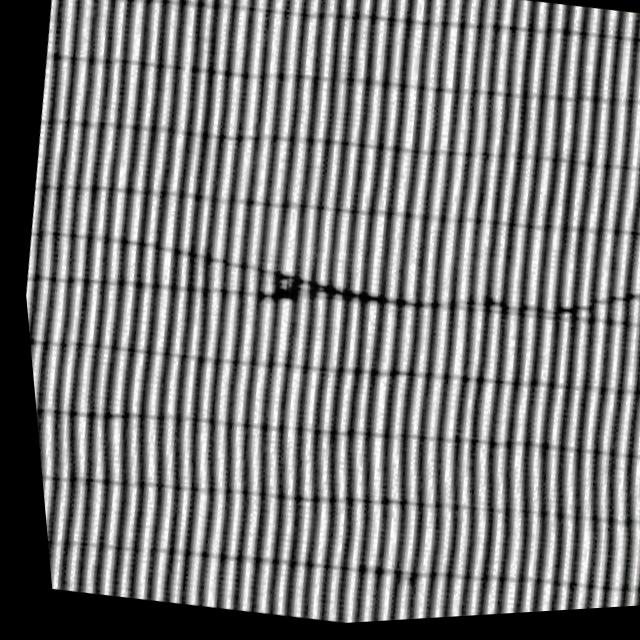Stitch: (184, 201, 531, 392)
